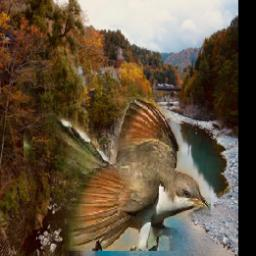Cuckoo: (23, 98, 210, 252)
